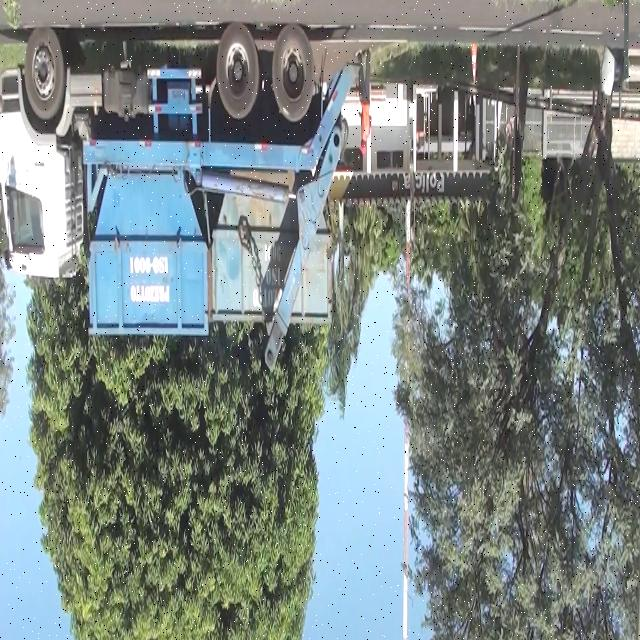-axle: (217, 16, 261, 120), (270, 22, 313, 121), (23, 24, 67, 116)
